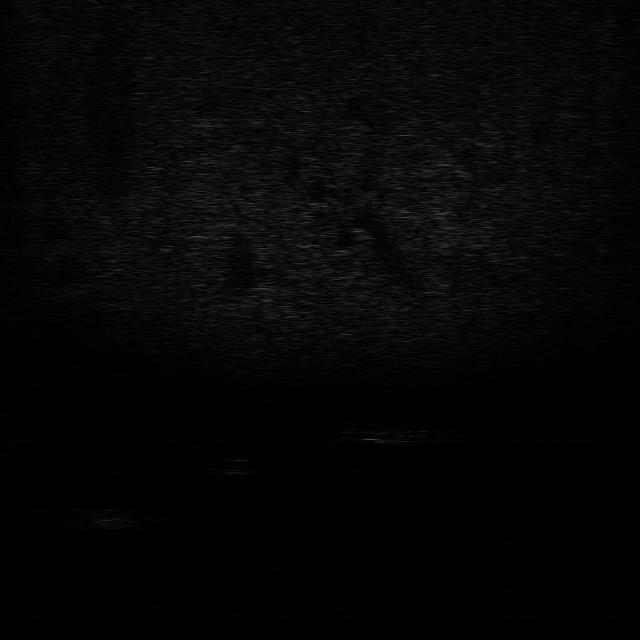ball: (214, 456, 261, 476)
circle cage: (62, 504, 136, 532)
human body: (326, 420, 434, 449)
